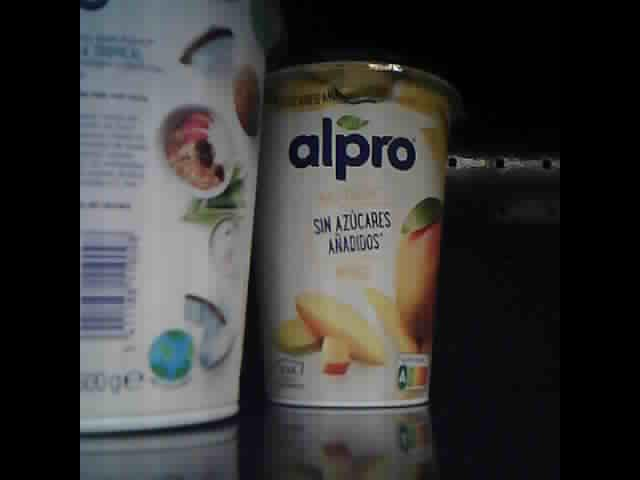alpro: (80, 1, 281, 437), (260, 61, 455, 409)
